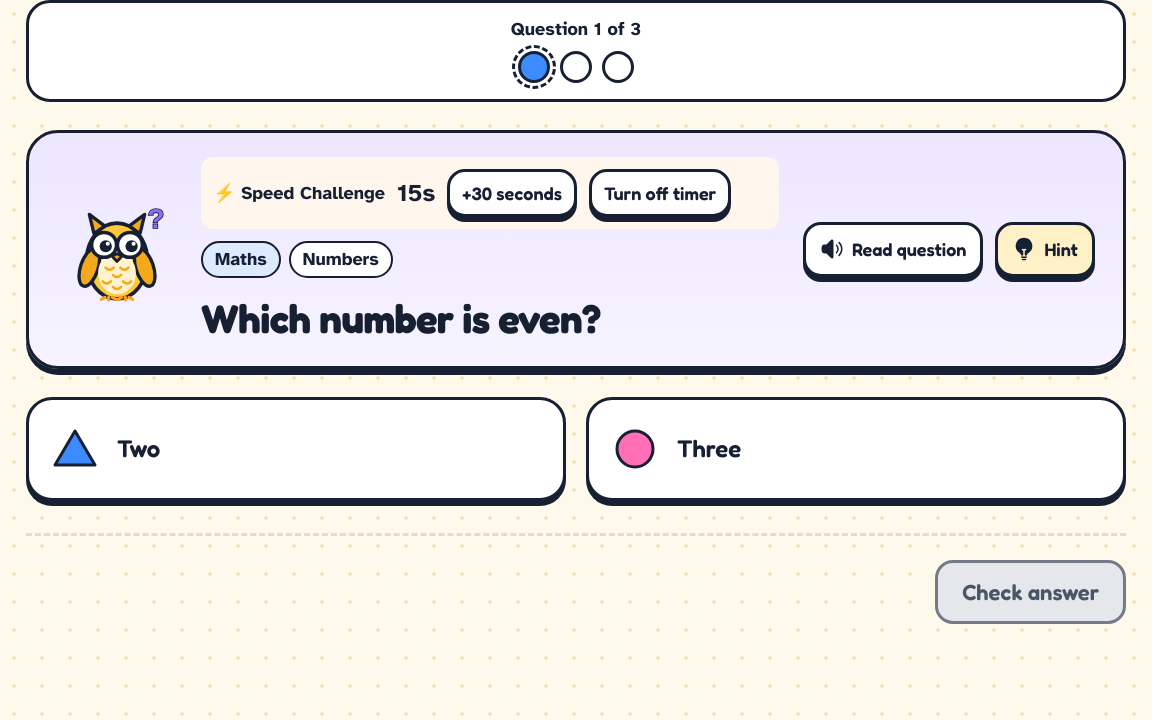
QuizView check then next › preserves extra time and timer-off preference across questions
Click the button "+30 seconds".
click(512, 193)  # box [447,169,577,217]
Wait 20000 ms
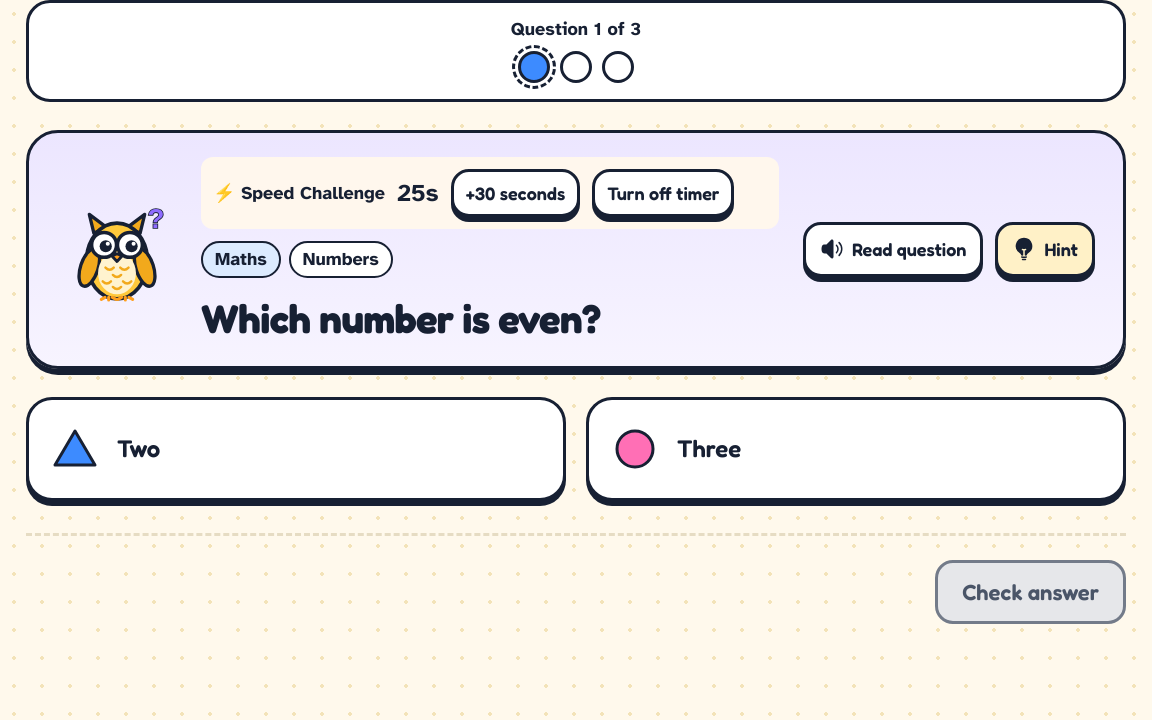
Expected: the text "45s" is shown, [397,177,439,209]
Click the button "Turn off timer".
click(663, 193)  # box [592,169,734,217]
Wait 60000 ms
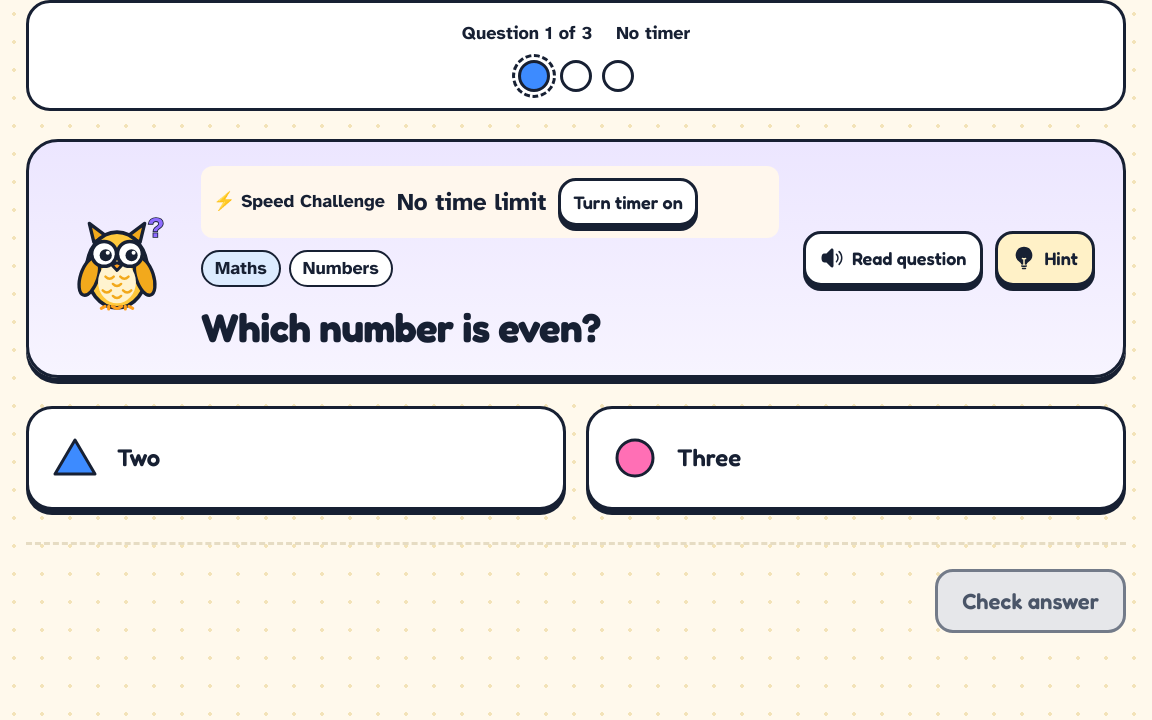
Click the radio button with aria-label "Option: Two".
click(75, 458)  # box [26,406,566,510]
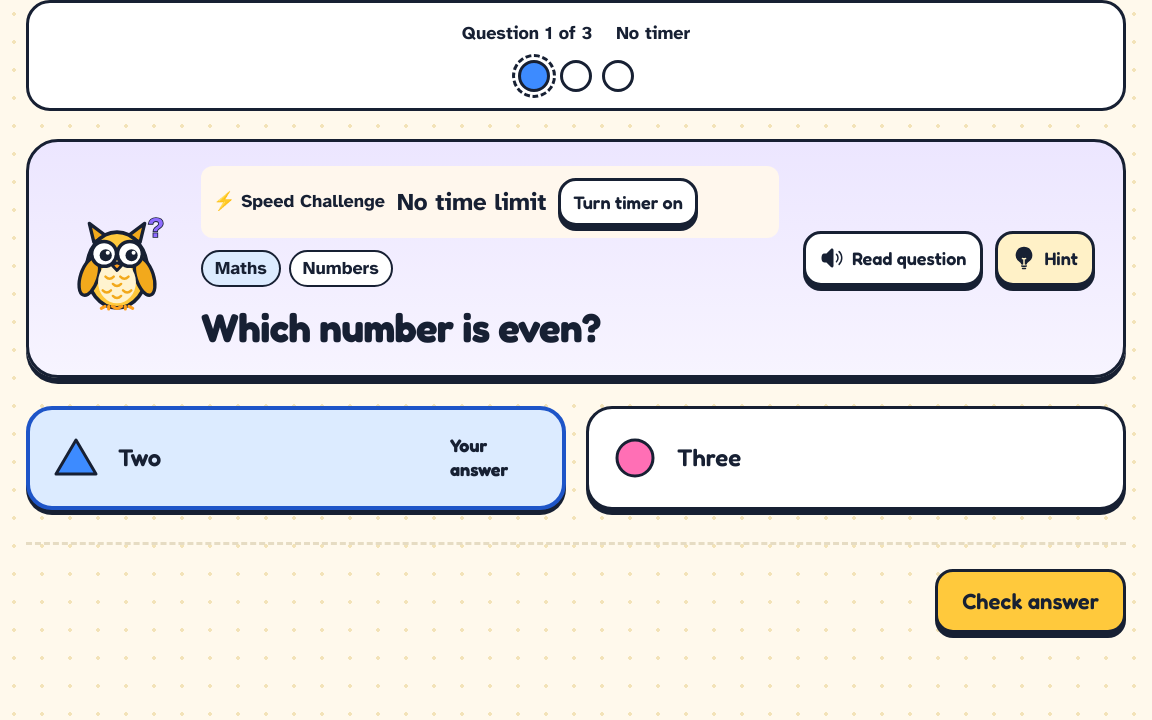
Click the button "Check answer".
click(1031, 601)  # box [935,569,1126,633]
(page scrolled)
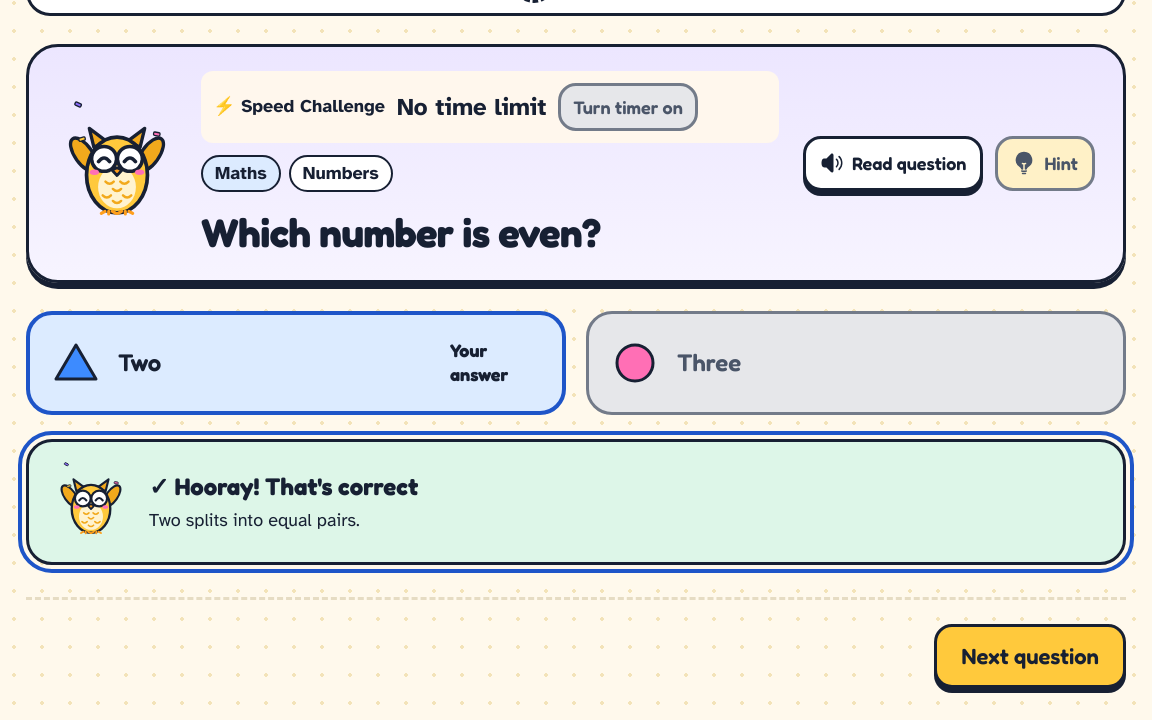
Click the button "Next question".
click(1030, 656)  # box [934,624,1126,688]
Wait 60000 ms
(page scrolled)
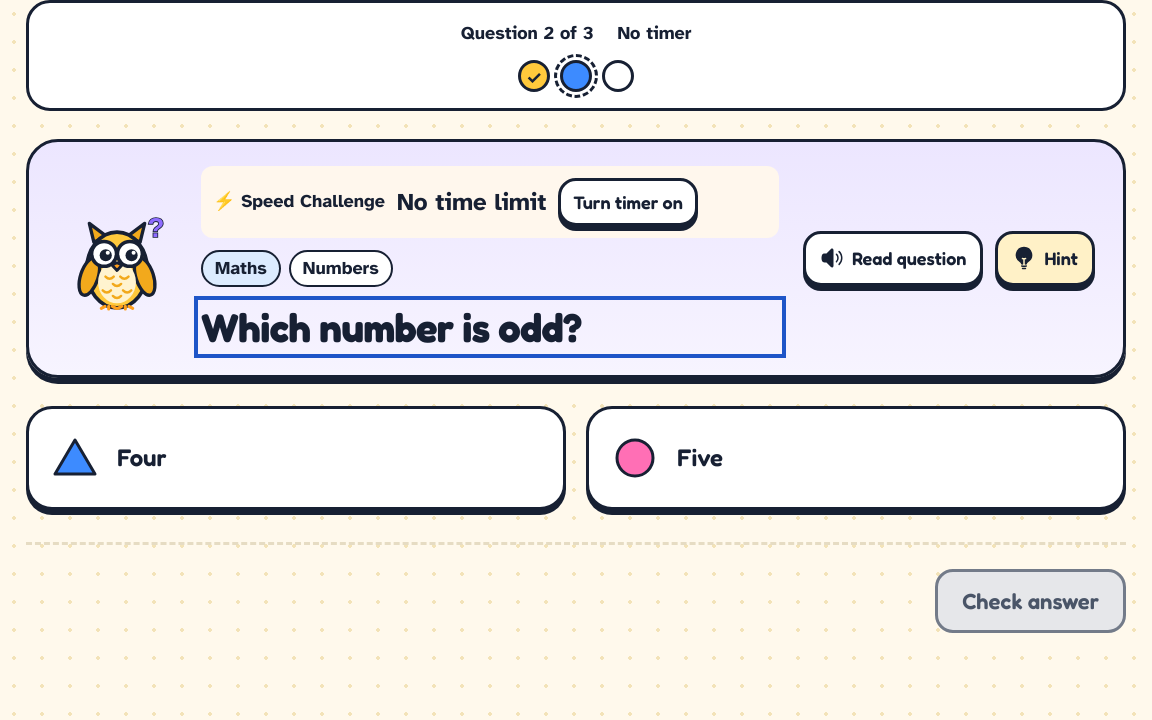
Expected: the text "No time limit" is shown, [397,186,546,218]
Click the button "Turn timer on".
click(628, 202)  # box [558,178,698,226]
Wait 15000 ms
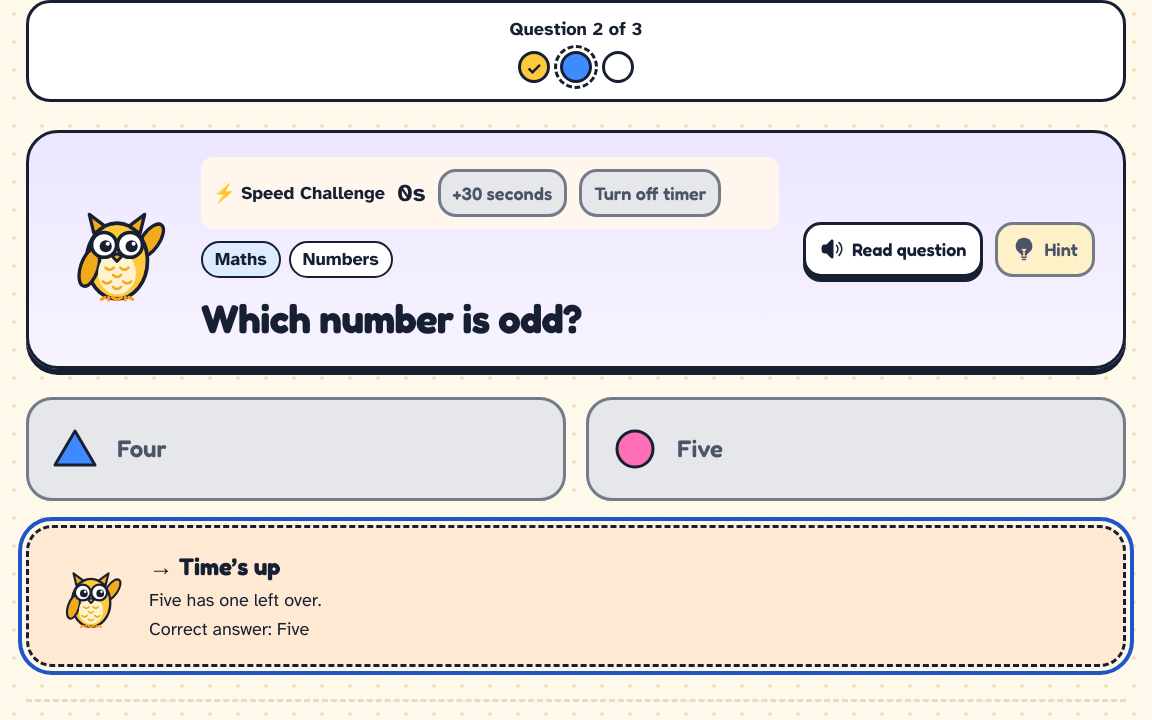
Expected: the message named "Answer feedback" shows "Time’s up", [179,552,280,581]
